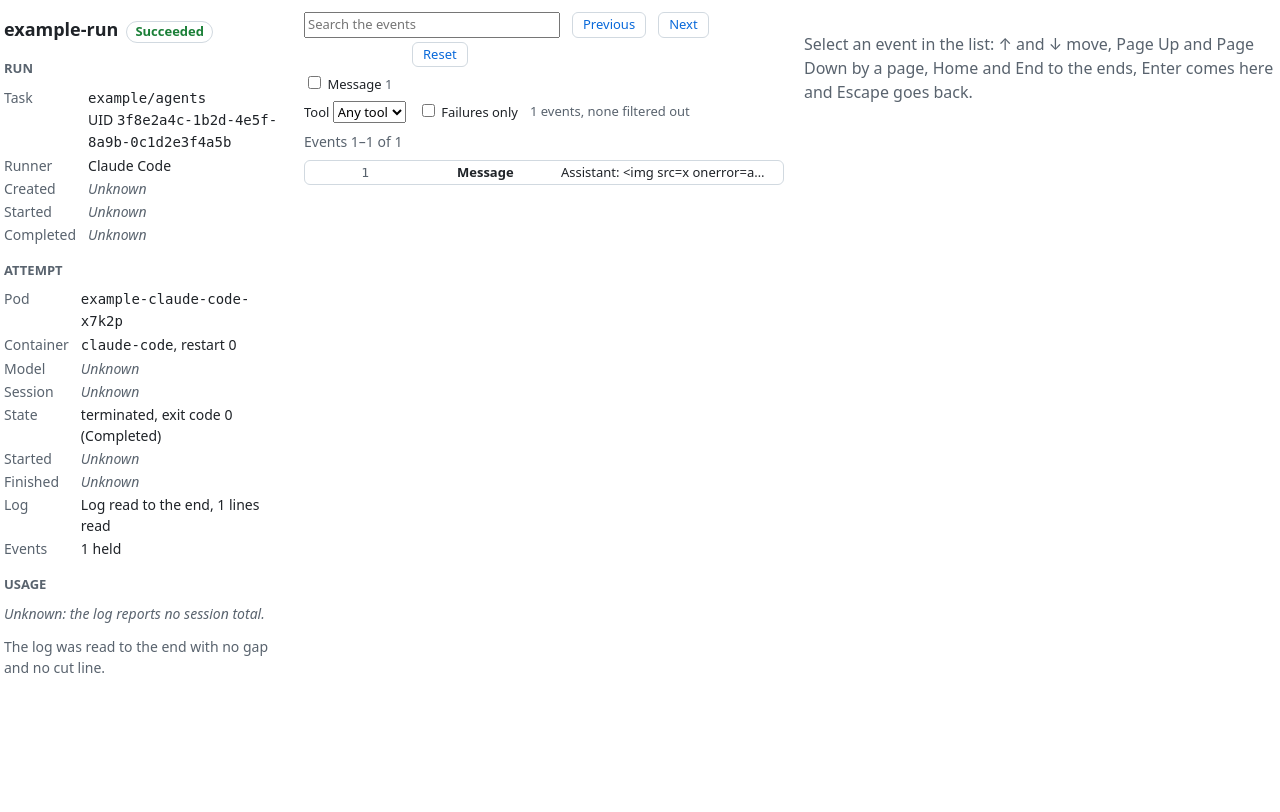
Test: Inspector states › keeps hostile content as text
Click the option at (485,172), box x1=305 y1=160 x2=783 y2=184
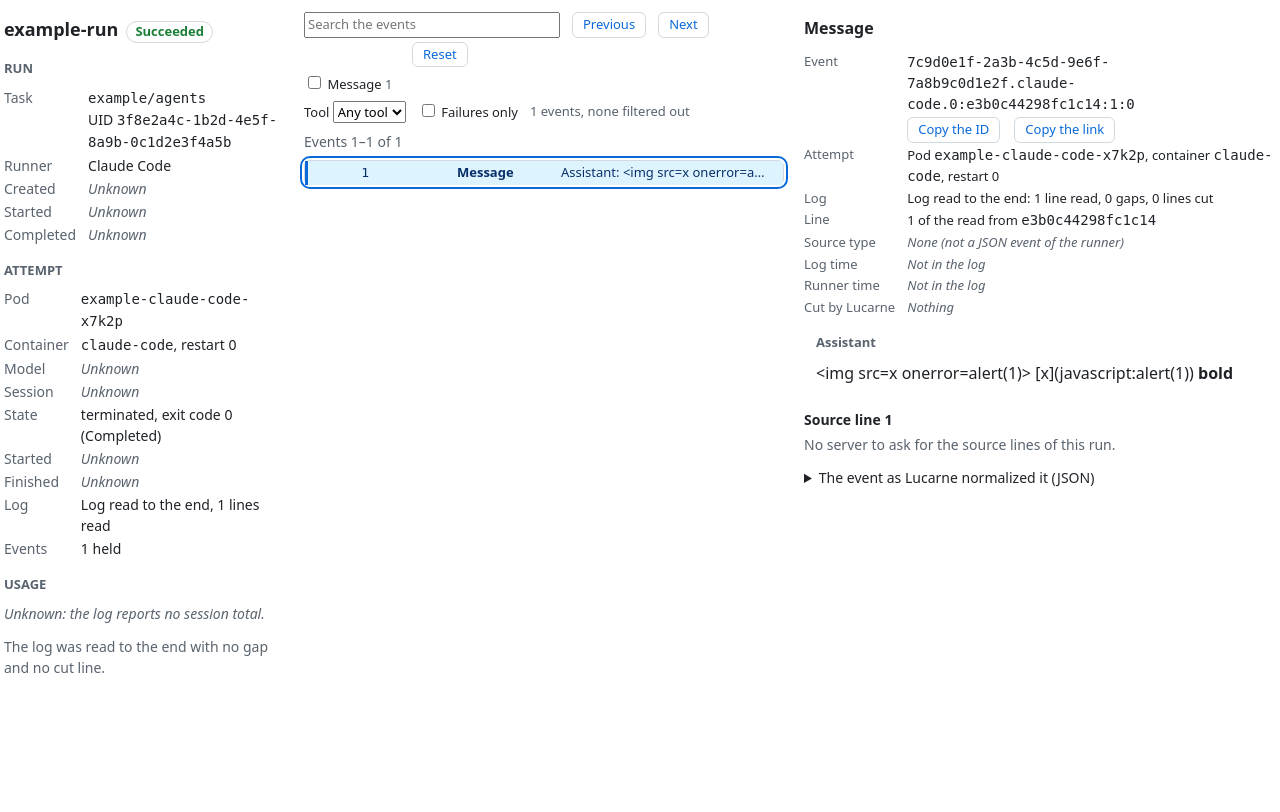
Expected: the text "bold" is shown, x1=1198 y1=362 x2=1233 y2=384
